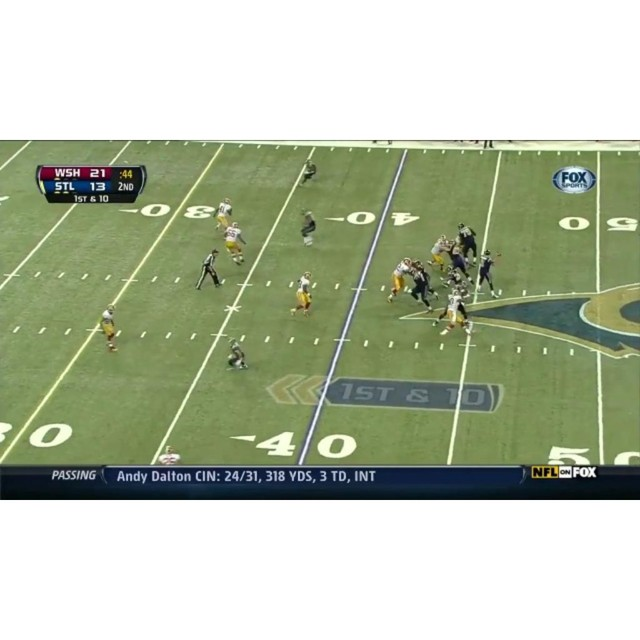american-football-player: (440, 293, 472, 337), (408, 263, 435, 312), (474, 249, 500, 299), (387, 257, 413, 304), (99, 303, 120, 353), (290, 271, 312, 317), (448, 240, 472, 282), (224, 221, 246, 265), (457, 223, 479, 266), (429, 234, 451, 273), (226, 336, 248, 370), (299, 208, 317, 246), (214, 197, 233, 233), (298, 158, 318, 188), (152, 446, 182, 465)
referee: (195, 248, 222, 290)
